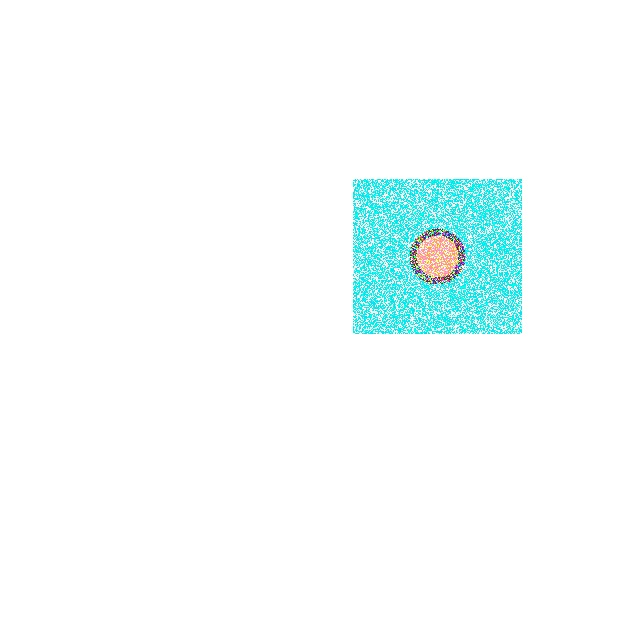Videoprojecteur: (353, 179, 521, 333)
